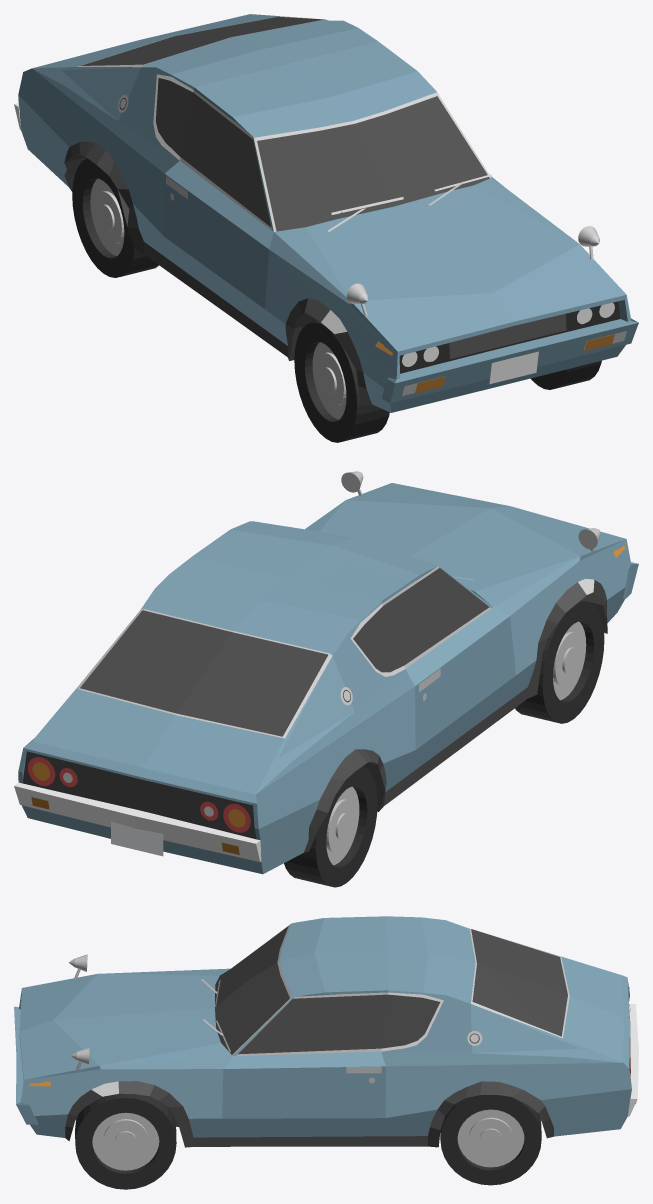
The model's file is bluecar.glb.
The picture shows the model from 3 angles, top to bottom: view 1: azimuth 30°, elevation 25°; view 2: azimuth 150°, elevation 25°; view 3: azimuth 270°, elevation 25°; orthographic projection. The views are drawn at different scales.
Size of the model in its own units: 1.89 by 1.51 by 4.61.
